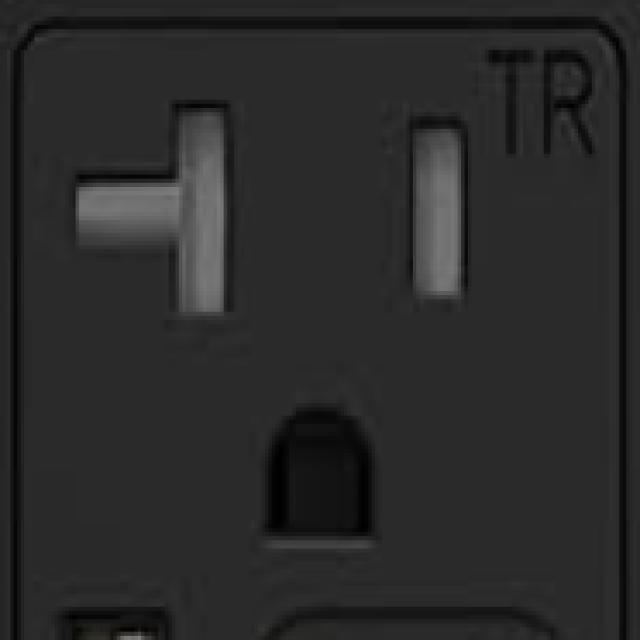type_b_tc: (12, 20, 622, 604)
